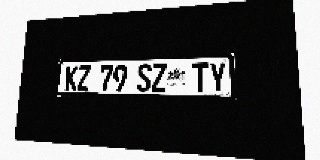7: (99, 65, 114, 91)
9: (113, 64, 127, 91)
K: (64, 66, 78, 91)
S: (137, 64, 151, 92)
T: (192, 62, 209, 92)
Y: (209, 62, 227, 92)
Z: (151, 63, 167, 92), (77, 65, 91, 91)
